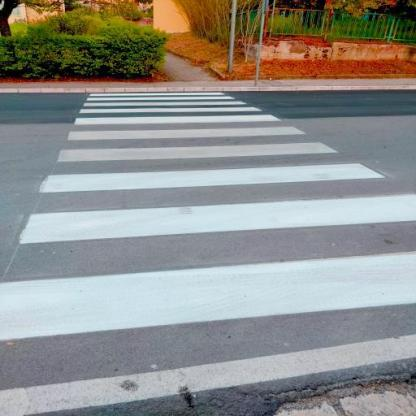crosswalk: (26, 140, 392, 198), (68, 105, 286, 127)
